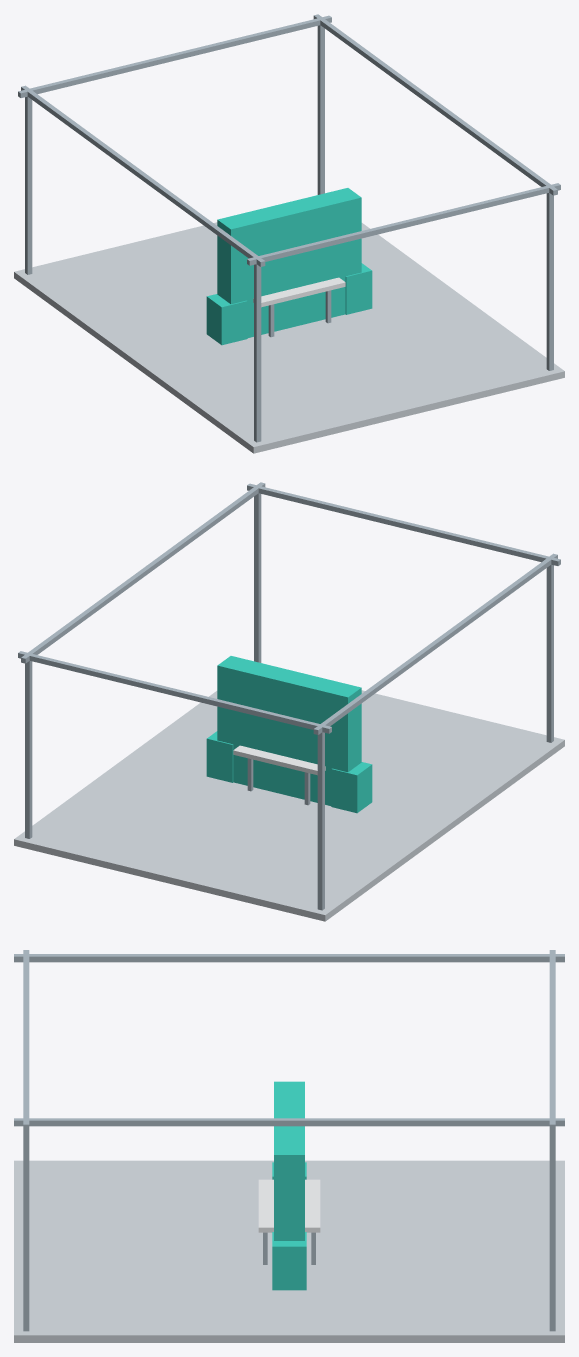
3 renders of one model, top to bottom at view 1: azimuth 30°, elevation 25°; view 2: azimuth 150°, elevation 25°; view 3: azimuth 270°, elevation 25°, orthographic. The views are drawn at different scales.
Parts seen in each view (by area): view 1: Exhibition Booth Concept; view 2: Exhibition Booth Concept; view 3: Exhibition Booth Concept.
Boxes of the visible parts, <box> form: Exhibition Booth Concept: <box>14,14,564,453</box>; Exhibition Booth Concept: <box>14,482,564,921</box>; Exhibition Booth Concept: <box>14,950,564,1342</box>.
Size of the model in its own units: 6 by 3.49 by 8.
